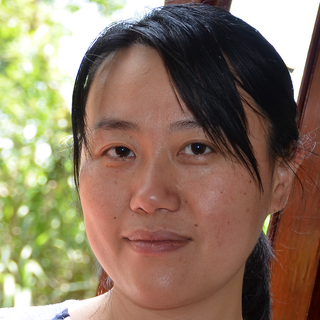eye: (172, 139, 224, 161), (98, 140, 139, 163)
